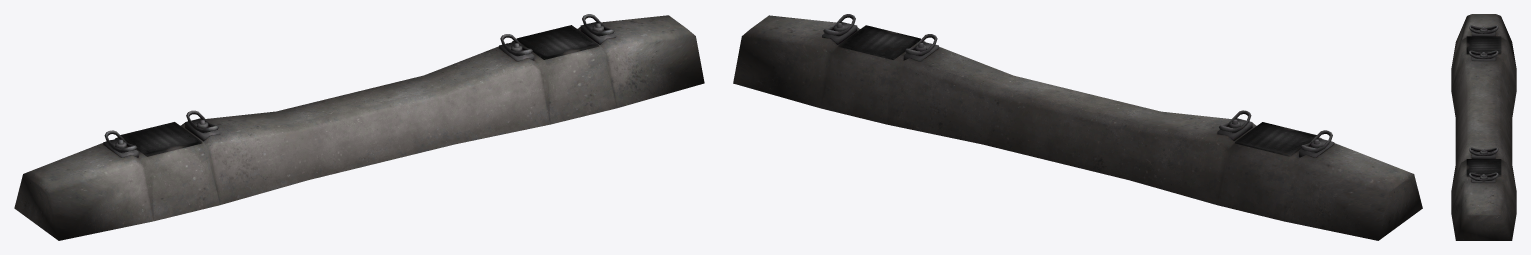
Rendered from SM_Sleeper_Concrete.FBX.
The picture shows the model from 3 angles, left to right: view 1: azimuth 30°, elevation 25°; view 2: azimuth 150°, elevation 25°; view 3: azimuth 270°, elevation 25°; orthographic projection. The views are drawn at different scales.
Visible parts, largest first — view 1: SM_Sleeper_Concrete_LOD0; view 2: SM_Sleeper_Concrete_LOD0; view 3: SM_Sleeper_Concrete_LOD0.
Part boxes in pixels (x1=…): SM_Sleeper_Concrete_LOD0: x1=14, y1=14, x2=704, y2=240; SM_Sleeper_Concrete_LOD0: x1=733, y1=14, x2=1422, y2=240; SM_Sleeper_Concrete_LOD0: x1=1451, y1=14, x2=1516, y2=240.
Bounding box in the file's own units: 262 × 36.47 × 25.52.
